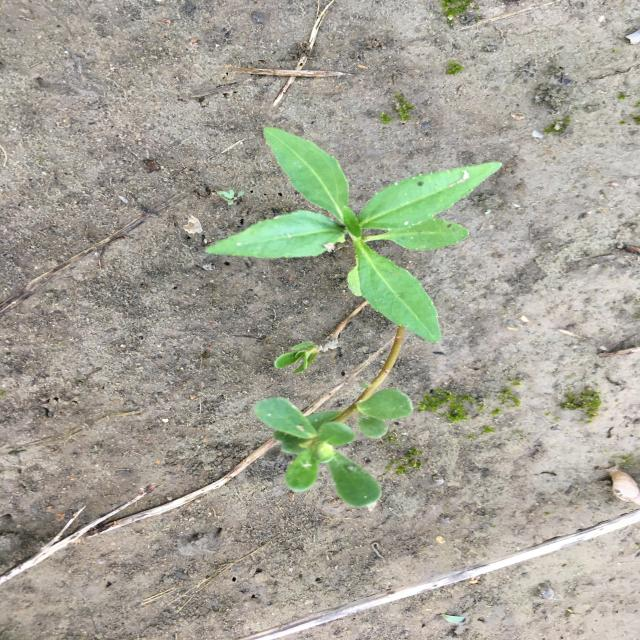Eclipta: (202, 127, 505, 344)
Purslane: (251, 298, 416, 510)
